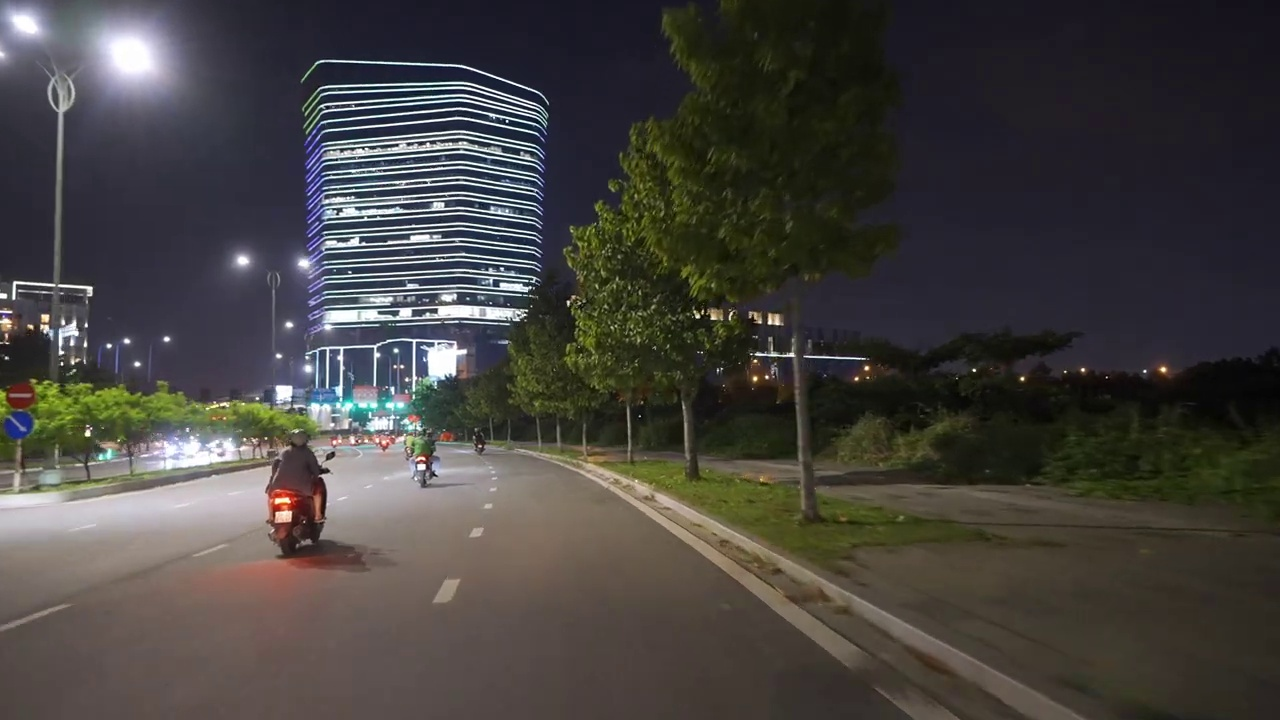cam_nguoc_chieu: (6, 382, 35, 409)
huong_phai_di_vong: (3, 410, 34, 439)
